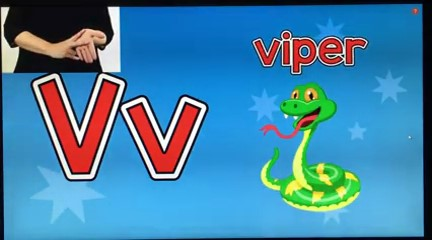V: (44, 23, 109, 67)
